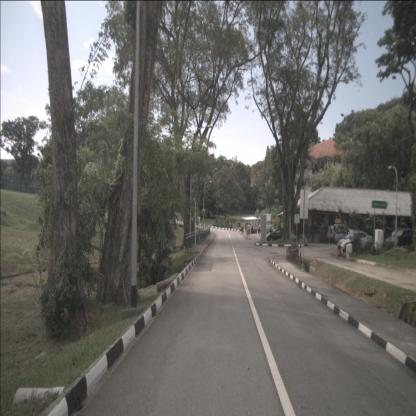cone: (336, 246, 338, 257)
